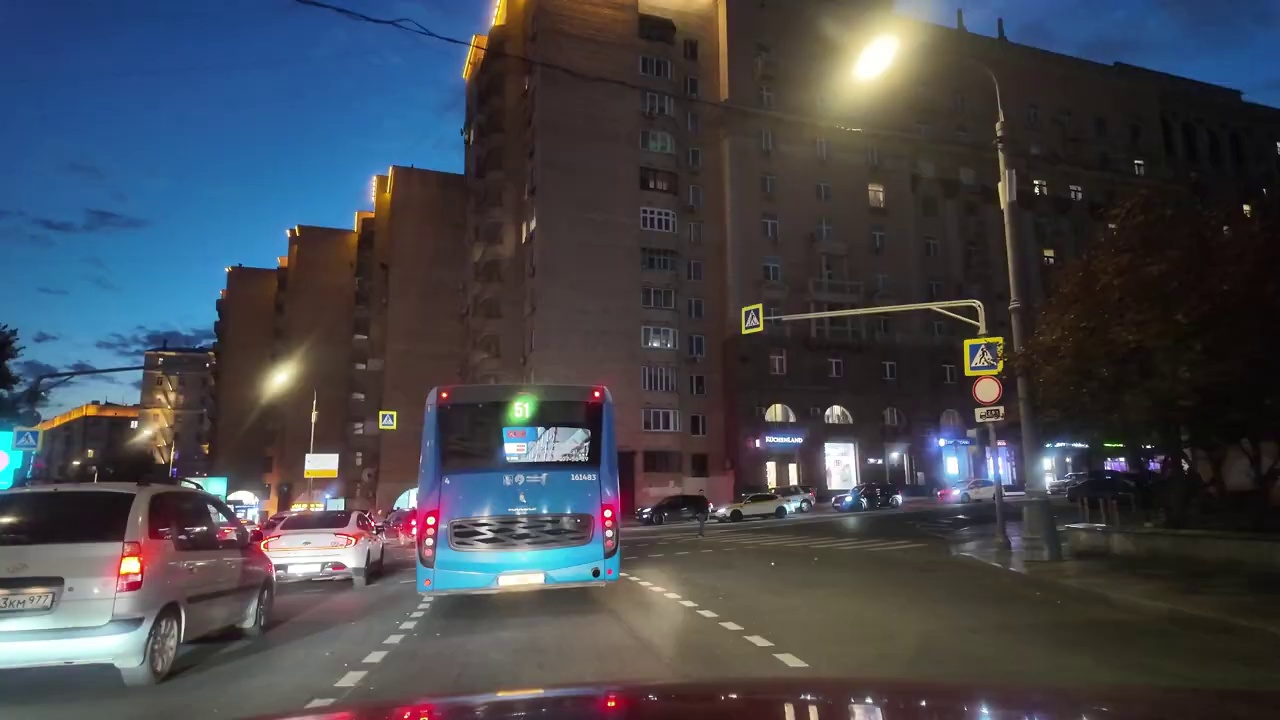acesa: (847, 22, 917, 92), (254, 354, 305, 405)
